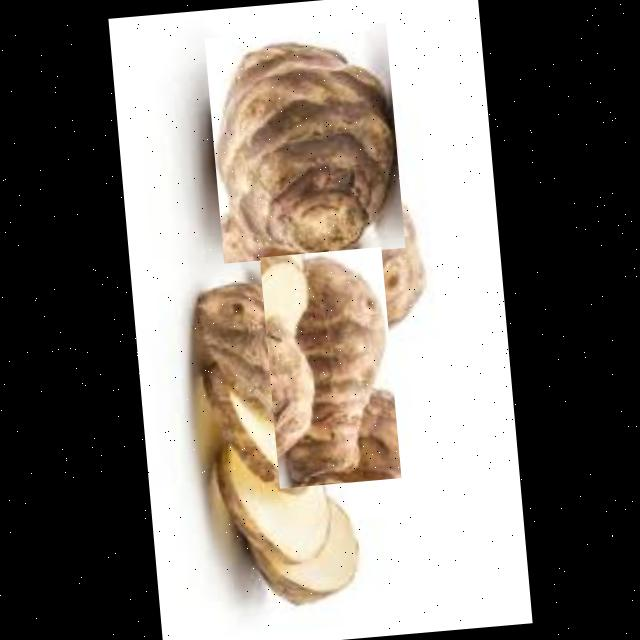Damaged potato: (204, 21, 405, 262), (259, 245, 401, 488)
